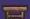workbench: (1, 1, 30, 19)
